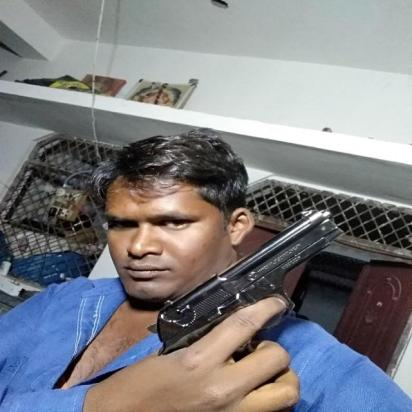Gun: (137, 206, 352, 412)
